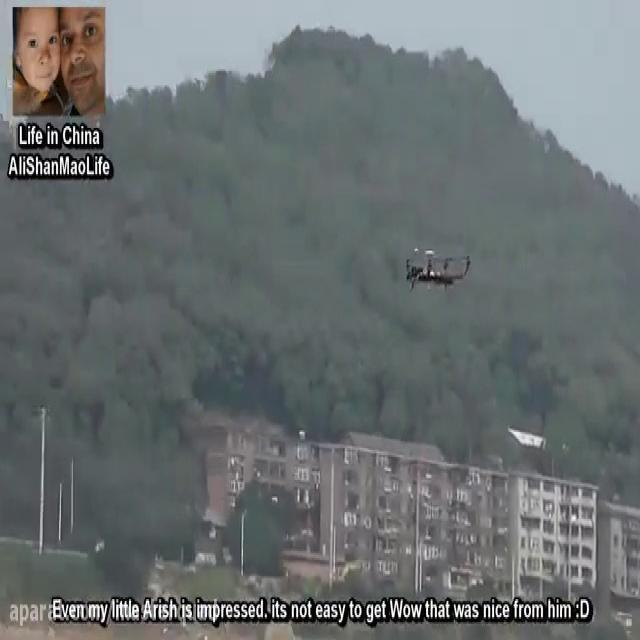drone: (402, 243, 474, 296)
